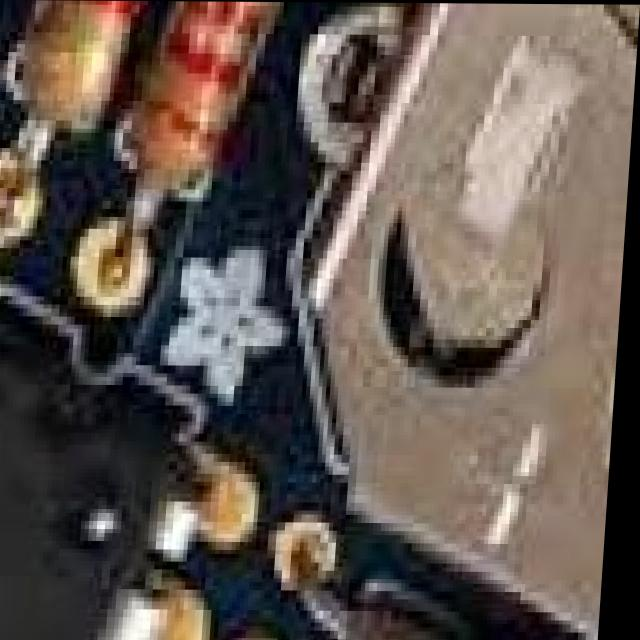IC: (0, 292, 274, 640)
battery: (279, 2, 640, 636)
clock: (295, 507, 607, 640)
resistor: (90, 1, 294, 274), (0, 0, 157, 204)
